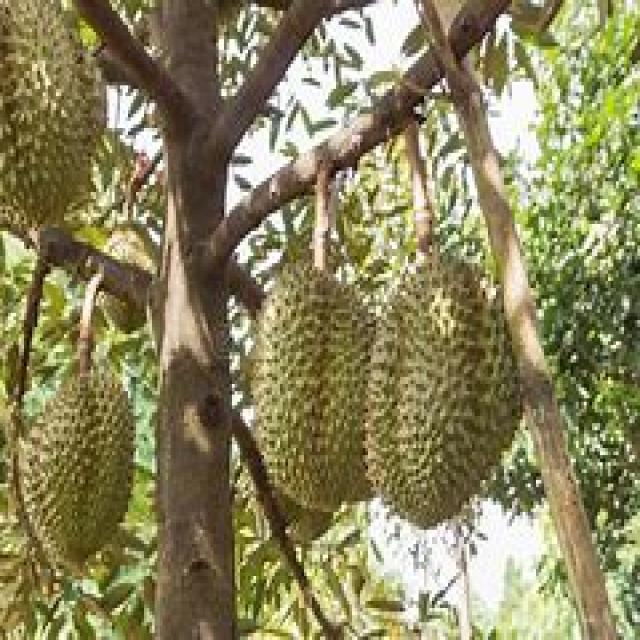mature: (366, 253, 521, 527)
